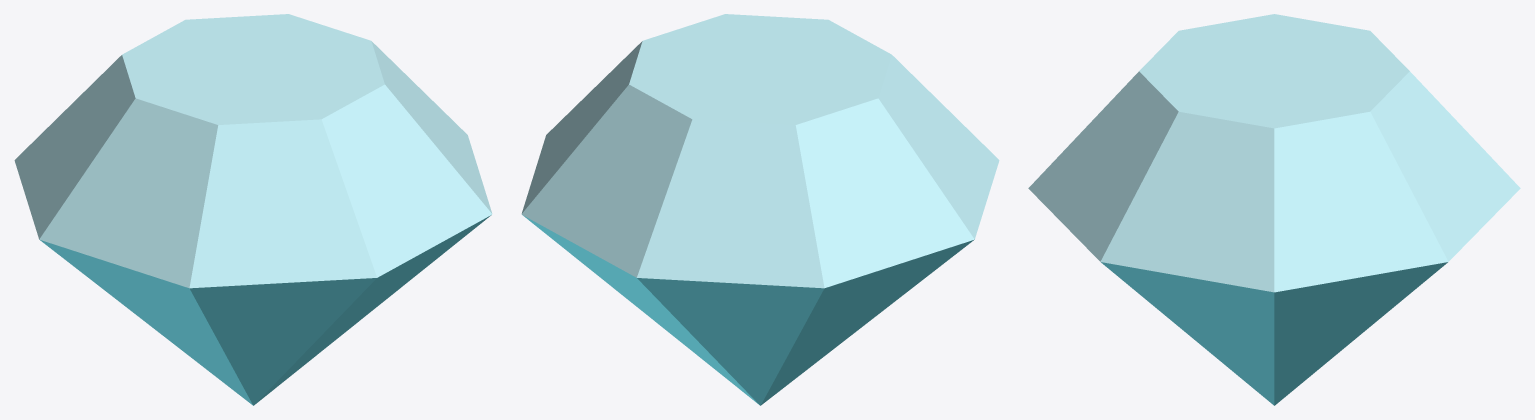
Rendered from Diamond.fbx.
3 views of the same model, side by side, from view 1: azimuth 30°, elevation 25°; view 2: azimuth 150°, elevation 25°; view 3: azimuth 270°, elevation 25° (orthographic).
Parts seen in each view (by area): view 1: Diamond; view 2: Diamond; view 3: Diamond.
Part boxes in pixels (left/top/right/bottom): Diamond: left=14, top=14, right=492, bottom=405; Diamond: left=521, top=14, right=999, bottom=405; Diamond: left=1028, top=14, right=1520, bottom=405.
Bounding box in the file's own units: 1.6 × 1.2 × 1.6.
1 material, 1 textured.
